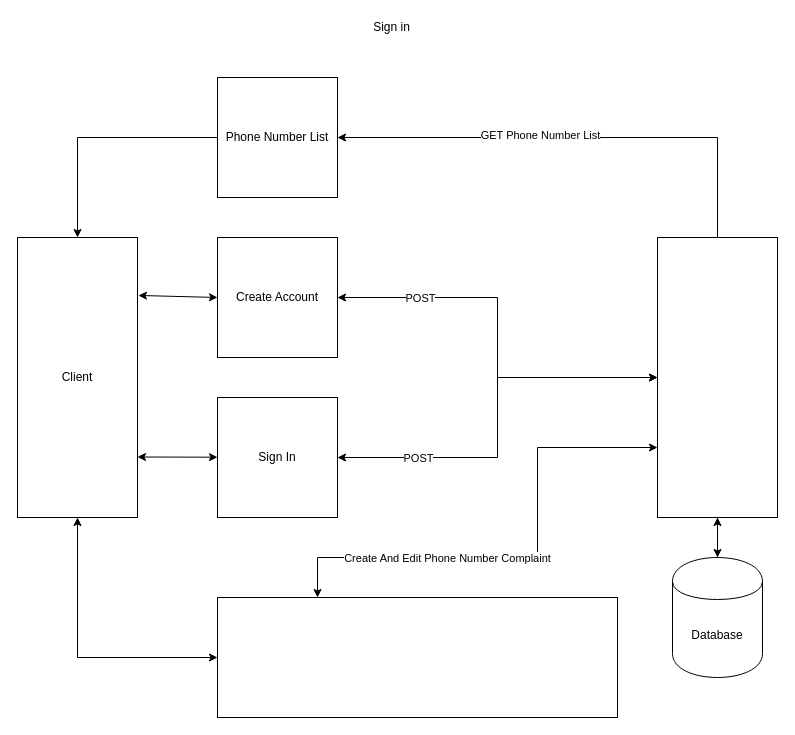
This 795x735 diagram has some shape labels left out. Here are the shapes that lost their labels. From the top down, the centre of each, then its label:
the point at 717,377: Server
the point at 417,657: Complaint Page
